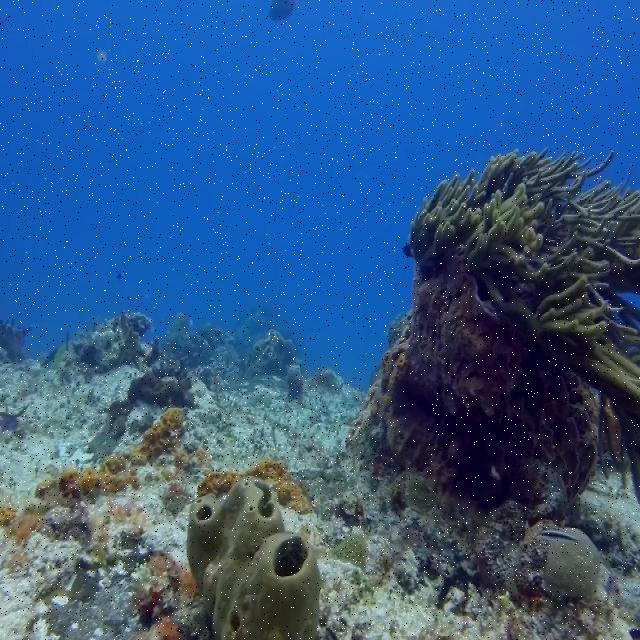aquatic plants: (348, 143, 639, 603)
reefs: (185, 475, 320, 639)
